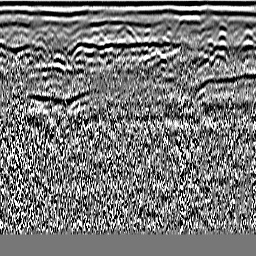cavity: (115, 22, 138, 42)
